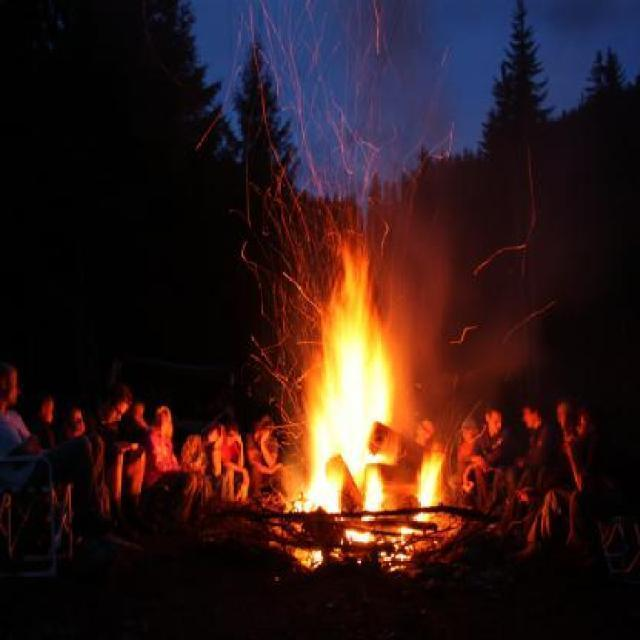fire: (309, 260, 403, 537), (417, 449, 443, 519)
